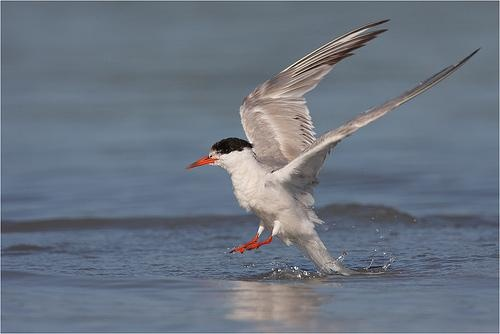bird: (180, 17, 477, 276)
